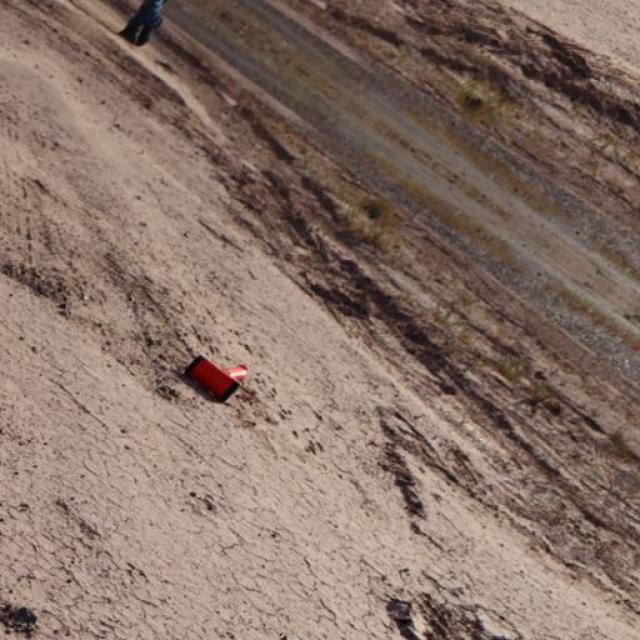mallet: (181, 352, 249, 402)
